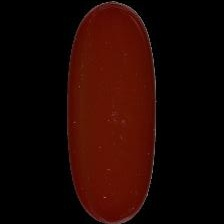43386-440: (0, 0, 224, 224)
